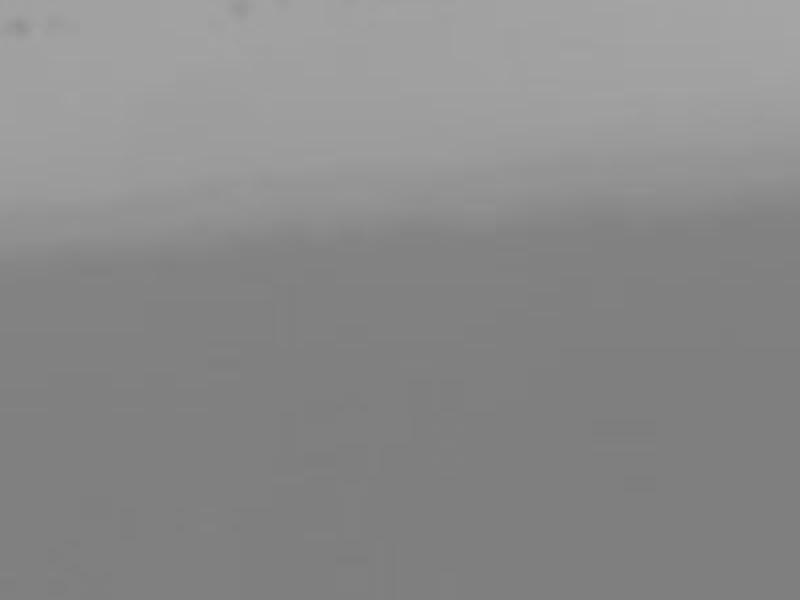defect: (1, 12, 33, 42), (42, 9, 74, 35), (231, 1, 257, 19)
